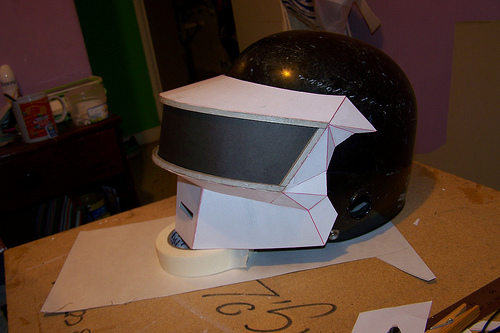helmet: (169, 12, 413, 251)
